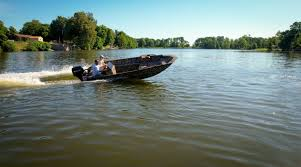boat: (72, 53, 176, 86)
